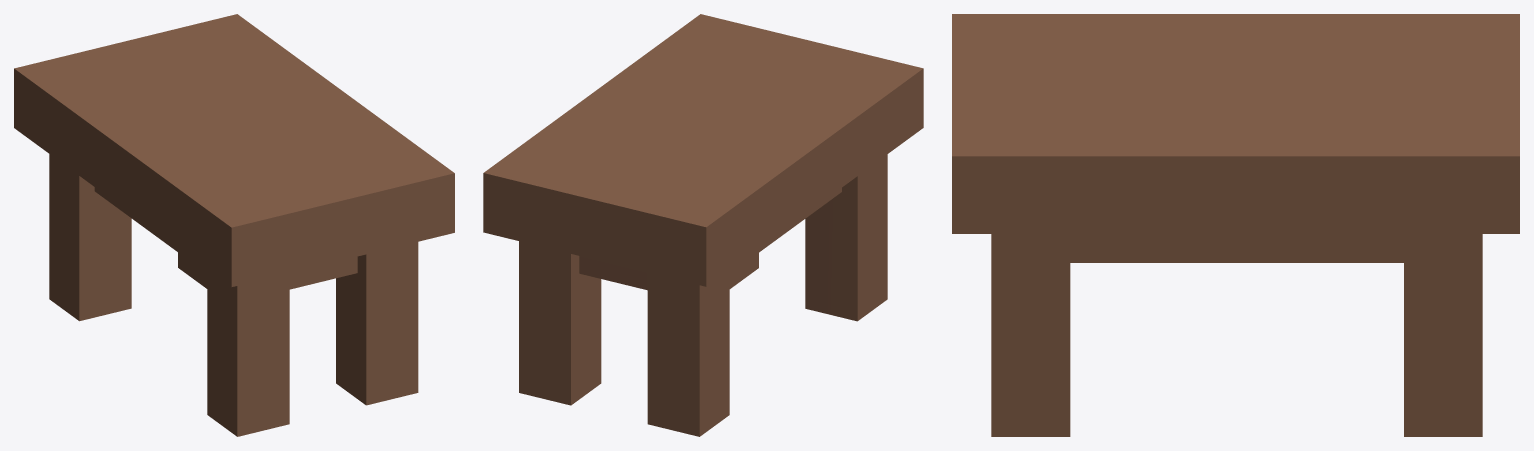
File: footstool.fbx
3 views of the same model, side by side, from view 1: azimuth 30°, elevation 25°; view 2: azimuth 150°, elevation 25°; view 3: azimuth 270°, elevation 25° (orthographic). The views are drawn at different scales.
Parts seen in each view (by area): view 1: footstool; view 2: footstool; view 3: footstool.
Part boxes in pixels (x1,y1,x2,y2): footstool: (14,14,454,436); footstool: (483,14,923,436); footstool: (952,14,1519,436).
Bounding box in the file's own units: 2.55 × 2.46 × 4.3.
